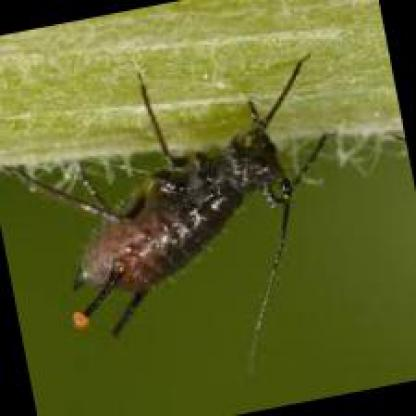uroleucon compositae: (18, 60, 324, 372)
